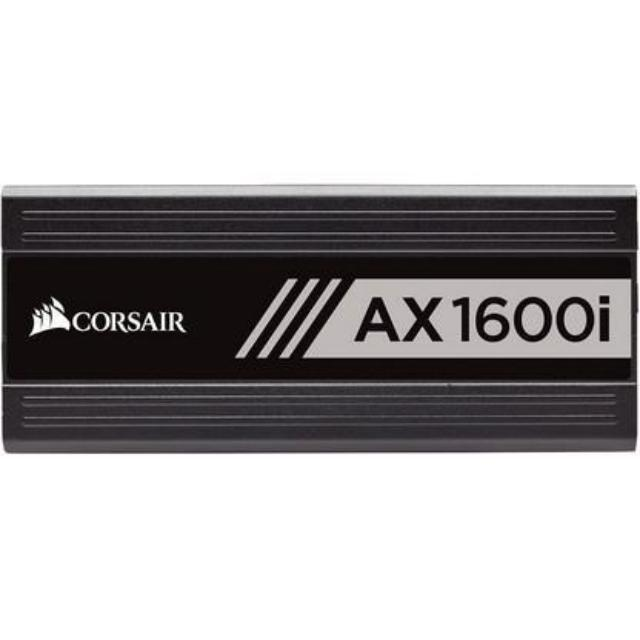PSU: (0, 182, 640, 464)
